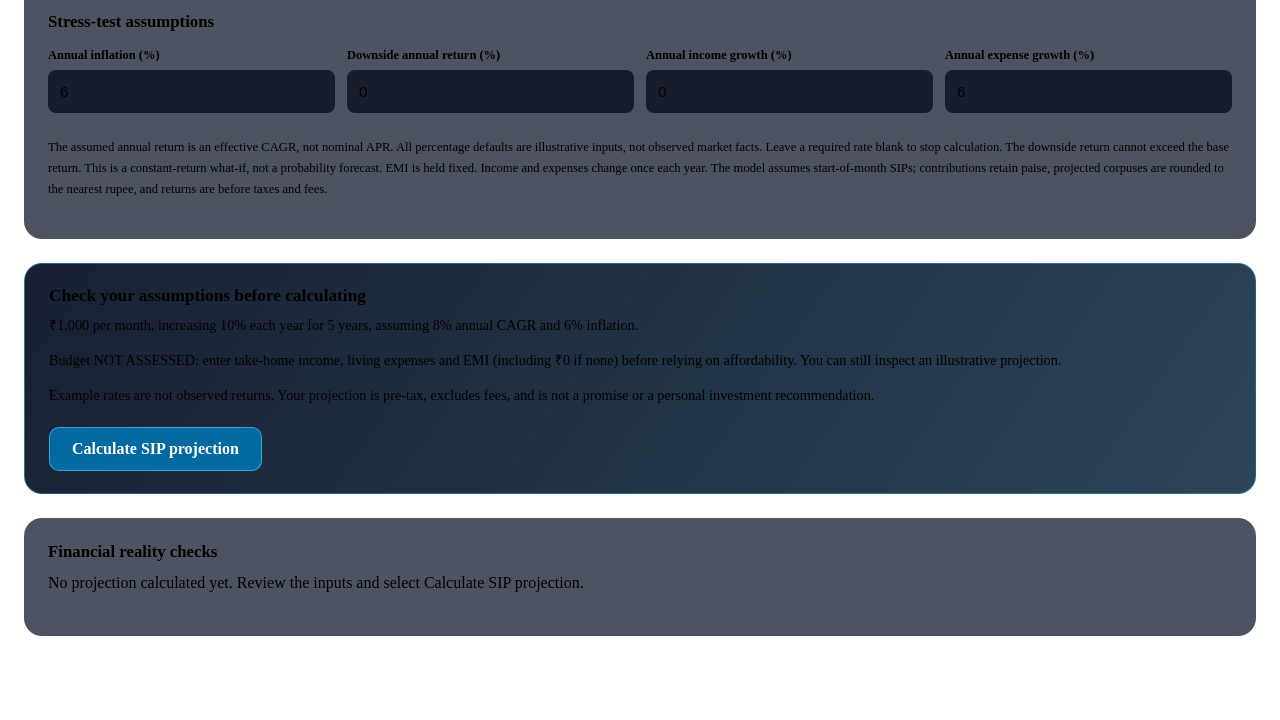
Test case: labels the step-up difference as extra projected corpus, not investment gain
The image size is (1280, 720).
(page scrolled)
Expected: the text "Extra projected corpus (nearest ₹1)" is not shown
Click the button "Calculate SIP projection": point(155, 449) [49,427,262,471]
(page scrolled)
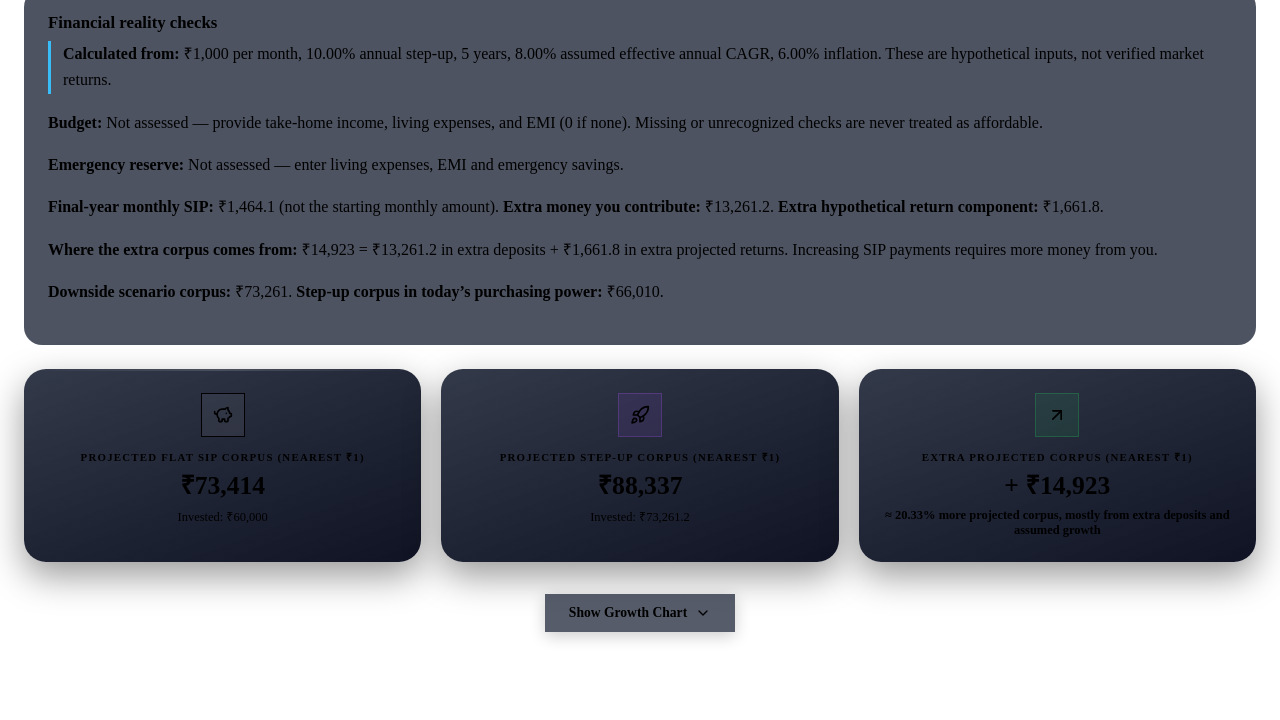
Expected: the text "Extra projected corpus (nearest ₹1)" is shown, [922,450,1193,464]
